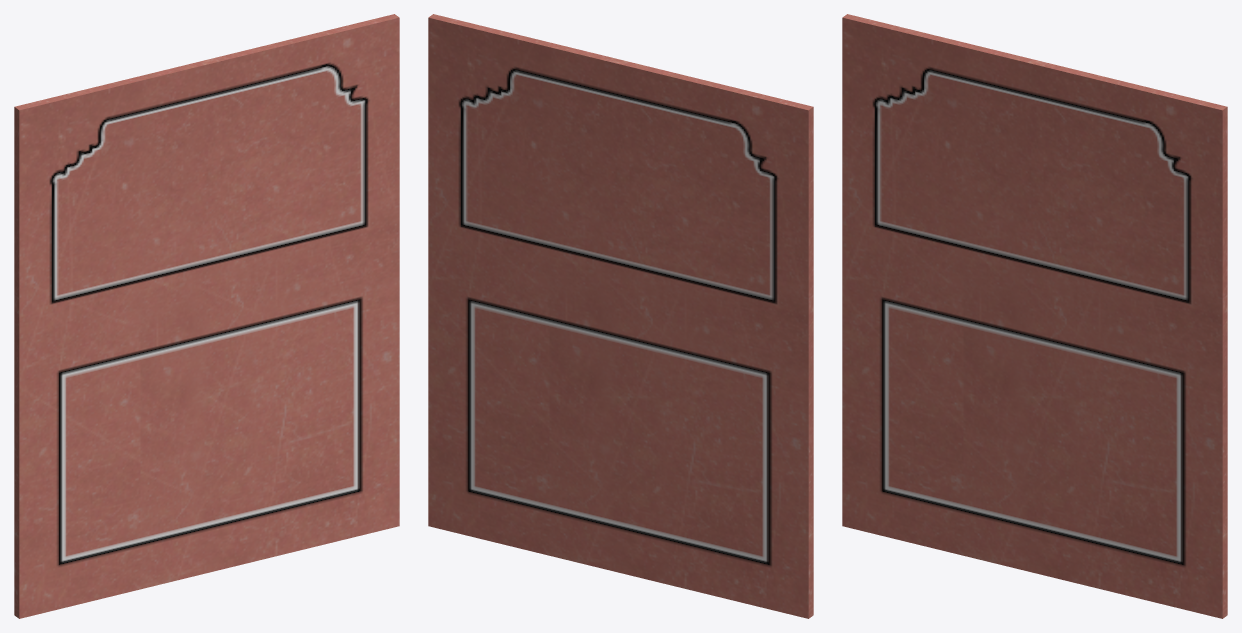
Rendered from SM_SJJ_HG_Wall06H.fbx.
The picture shows the model from 3 angles, left to right: view 1: azimuth 30°, elevation 25°; view 2: azimuth 150°, elevation 25°; view 3: azimuth 330°, elevation 25°; orthographic projection.
Parts seen in each view (by area): view 1: SM_SJJ_HG_Wall06H; view 2: SM_SJJ_HG_Wall06H; view 3: SM_SJJ_HG_Wall06H.
Boxes of the visible parts, x1,y1,x2,y2 form: SM_SJJ_HG_Wall06H: (14, 14, 399, 618); SM_SJJ_HG_Wall06H: (428, 14, 813, 618); SM_SJJ_HG_Wall06H: (842, 14, 1227, 618).
Bounding box in the file's own units: 303 × 6.83 × 387.
Materials: 1 (1 with a texture image).
